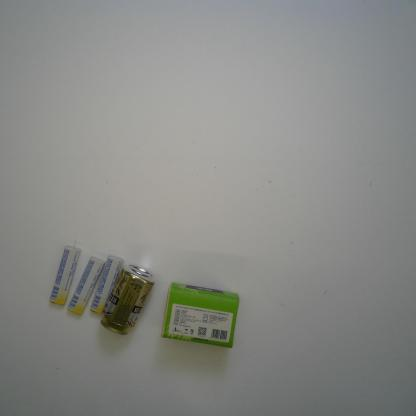Alcohol: (100, 264, 155, 335)
Candy: (66, 256, 106, 315), (89, 254, 124, 314), (49, 245, 82, 306)
Tissue: (160, 281, 240, 349)
